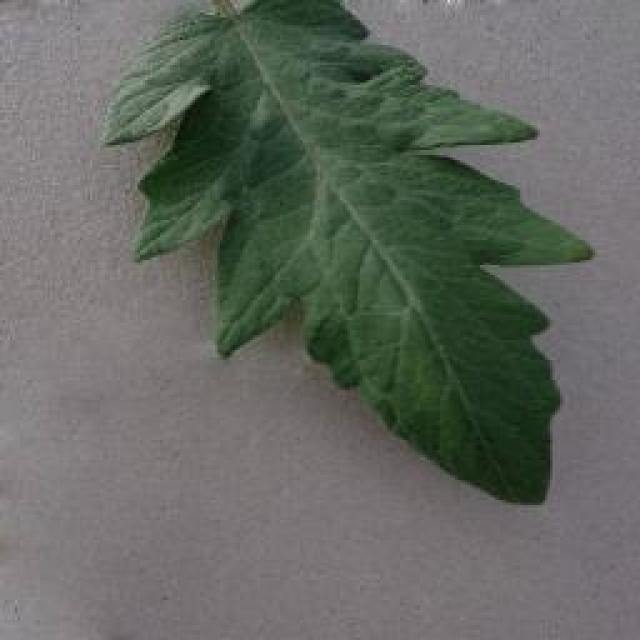Tomato___Late_blight: (99, 0, 599, 509)
